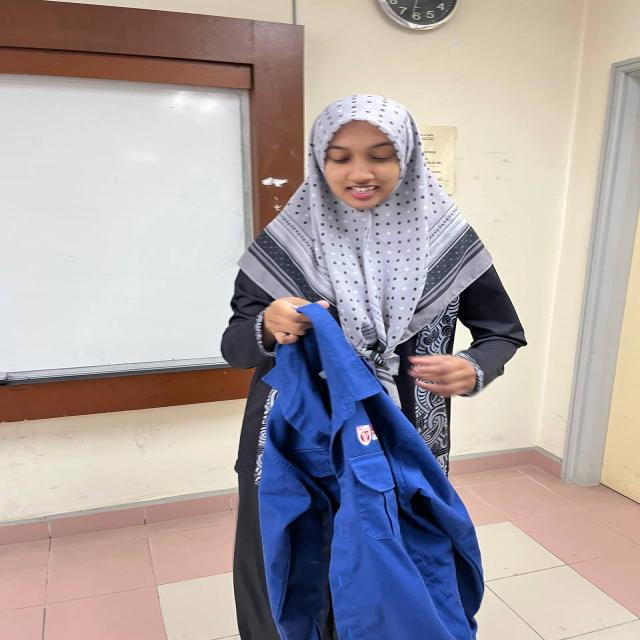person_without_labcoat: (221, 94, 525, 640)
